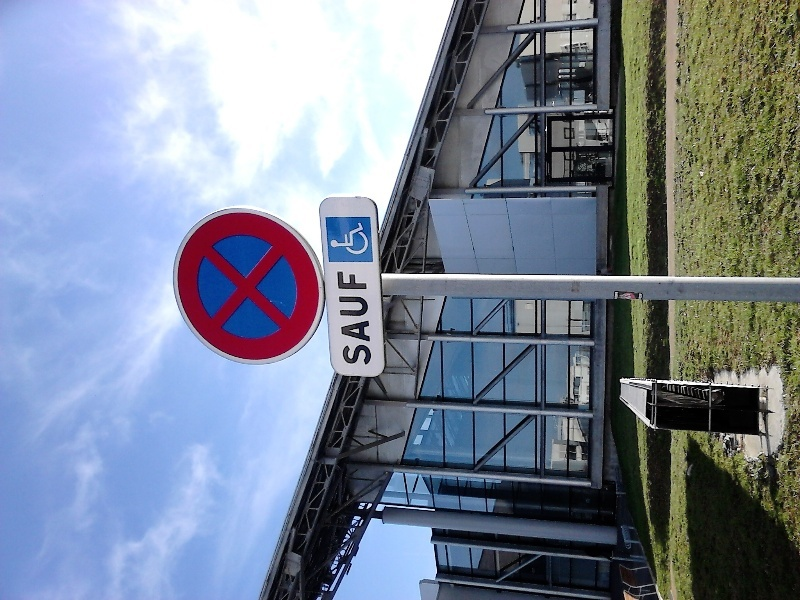text: (337, 270, 352, 367), (353, 270, 368, 367), (369, 270, 374, 367)
